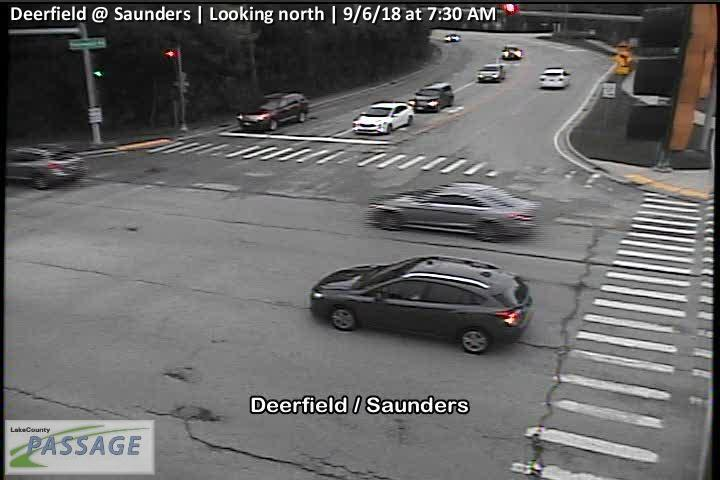SUV: (409, 80, 454, 113)
Sedan: (310, 253, 533, 353), (363, 181, 542, 242), (4, 142, 88, 190), (233, 92, 309, 130), (351, 100, 414, 136), (539, 68, 572, 88), (476, 63, 506, 82)
